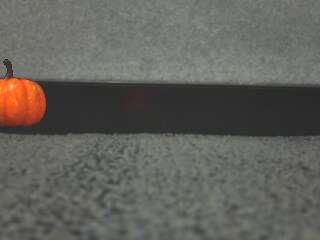Pumpkin: (0, 56, 49, 129)
